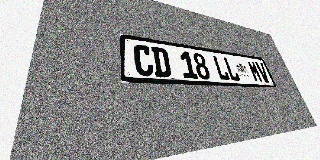1: (178, 50, 198, 79)
8: (192, 52, 211, 80)
C: (133, 44, 154, 77)
D: (151, 46, 172, 77)
L: (212, 55, 230, 81), (223, 57, 241, 81)
M: (247, 60, 263, 82)
V: (255, 62, 271, 83)
